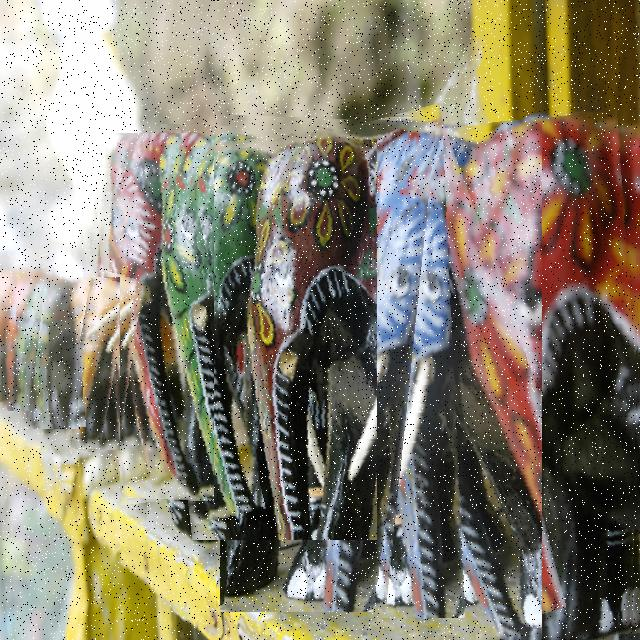elephant: (283, 111, 542, 640), (220, 117, 437, 612), (440, 113, 640, 640), (149, 126, 377, 540), (89, 133, 214, 503), (63, 277, 120, 451), (23, 269, 78, 429), (7, 263, 47, 411), (0, 263, 18, 402)
